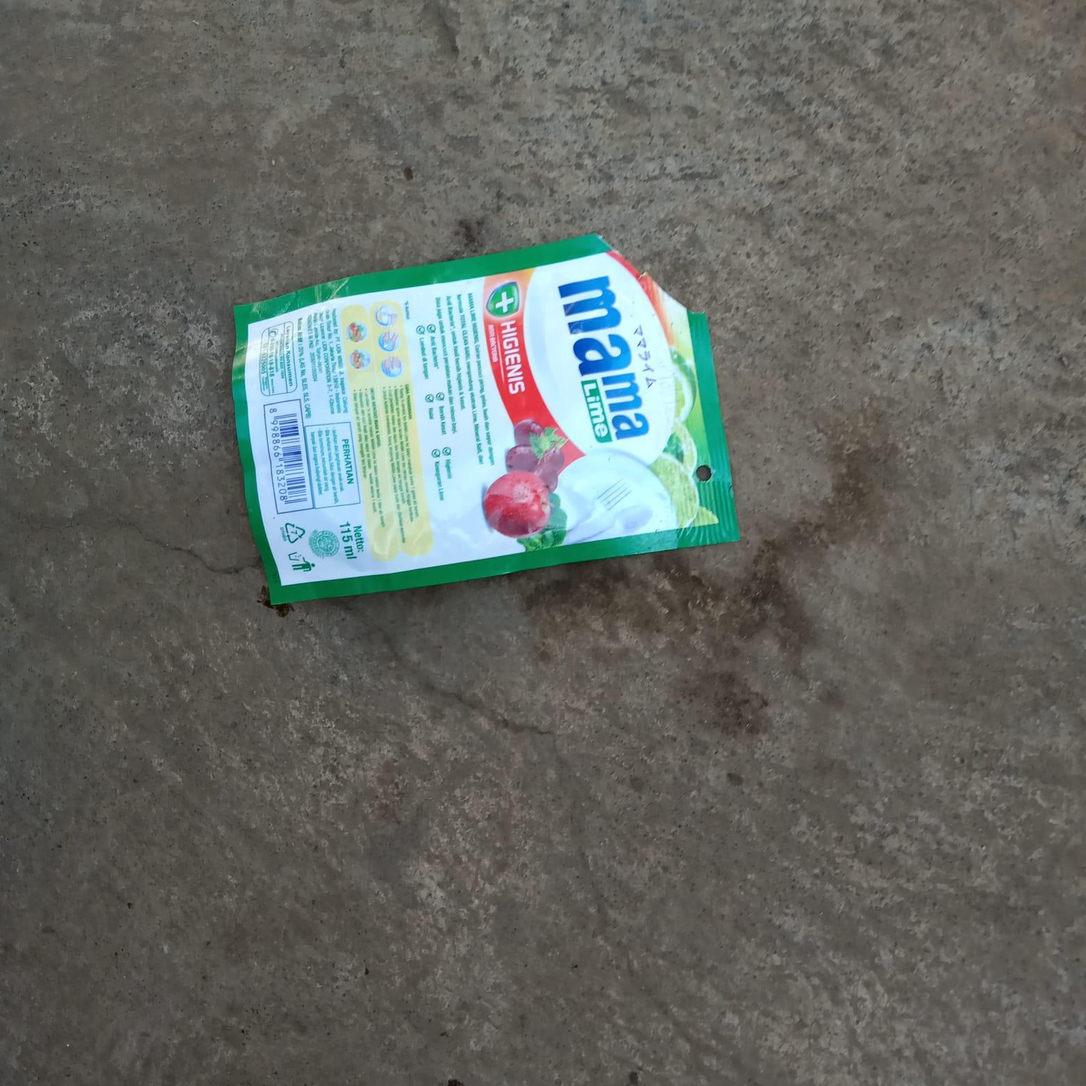Plastik: (238, 230, 742, 606)
